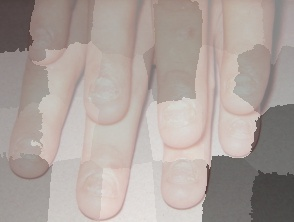Nail_psoriasis: (81, 69, 126, 114), (163, 154, 206, 195), (9, 132, 51, 171), (224, 68, 262, 105), (160, 98, 200, 133), (78, 168, 118, 201), (224, 115, 259, 148), (30, 27, 52, 56)
